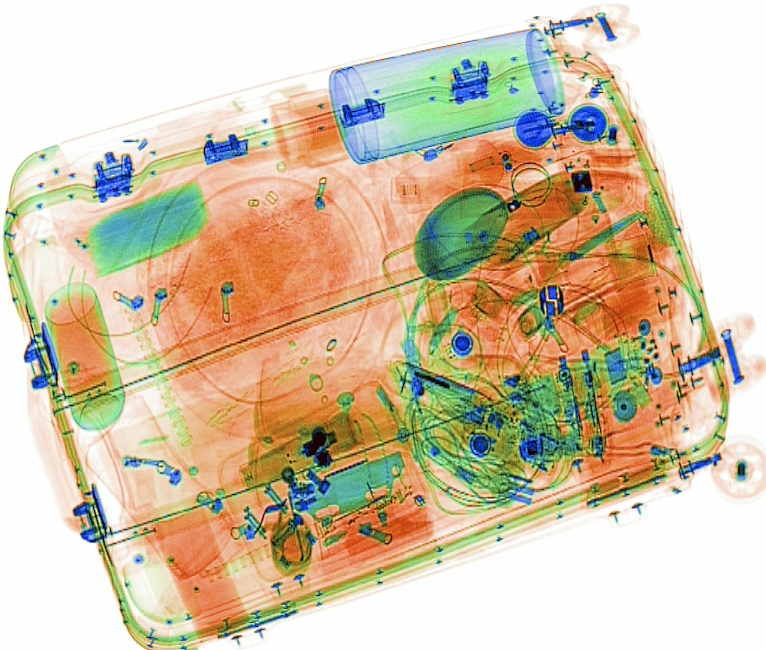pressure: (42, 279, 126, 430)
